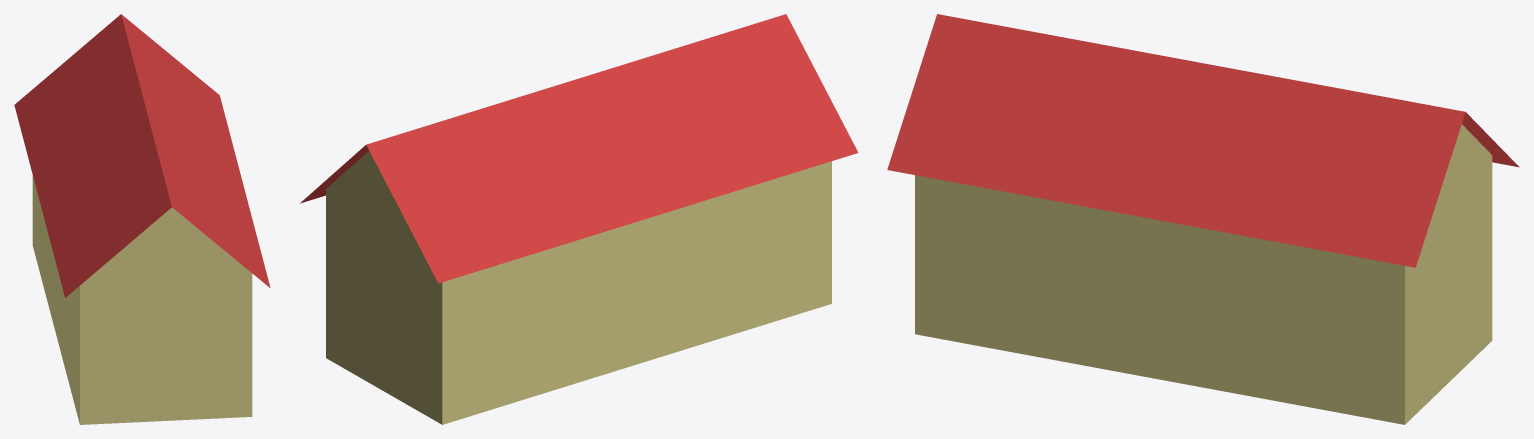
3 renders of one model, left to right at view 1: azimuth 30°, elevation 25°; view 2: azimuth 150°, elevation 25°; view 3: azimuth 270°, elevation 25°, orthographic. The views are drawn at different scales.
Size of the model in its own units: 22.38 by 30.18 by 14.56.
